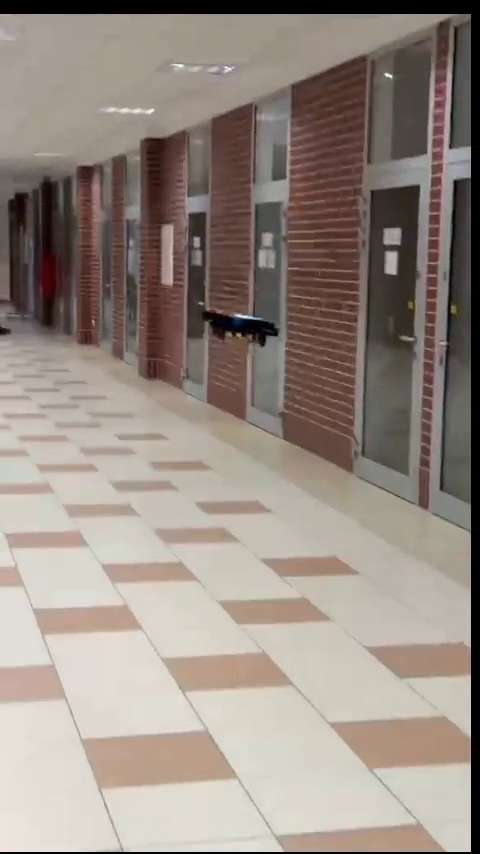drone: (206, 309, 280, 346)
